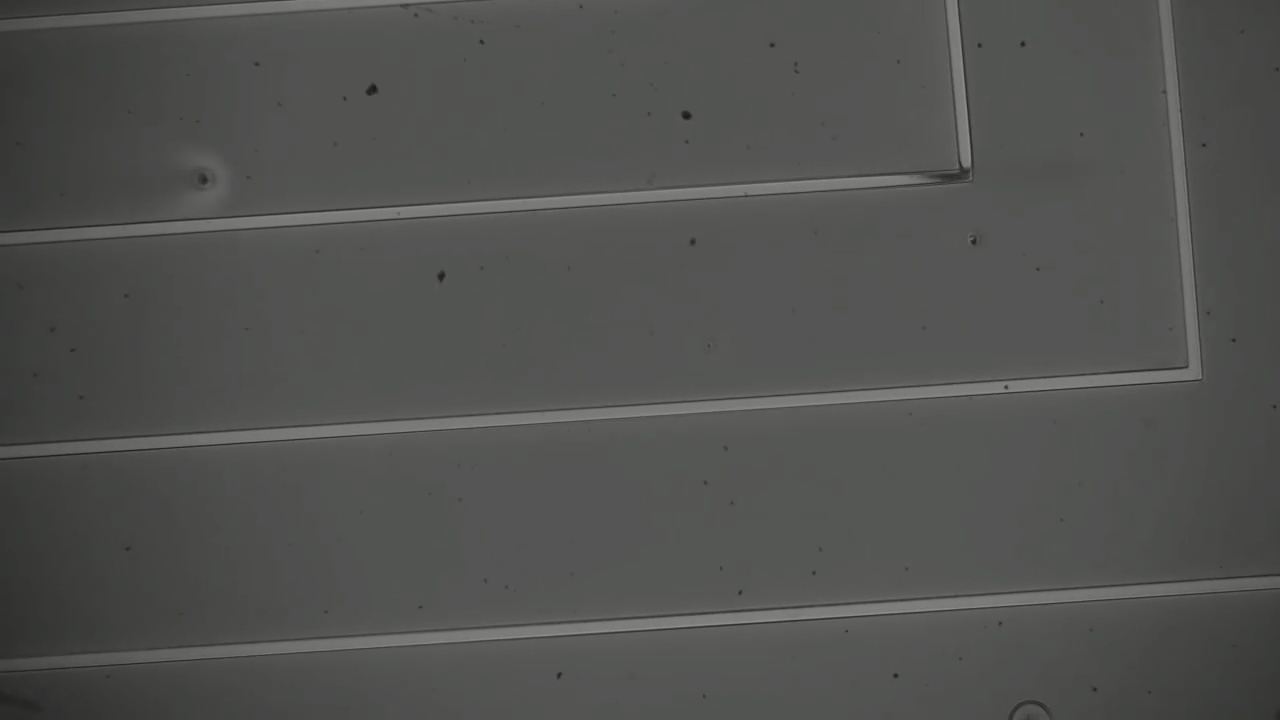gray_line: (890, 159, 986, 198)
